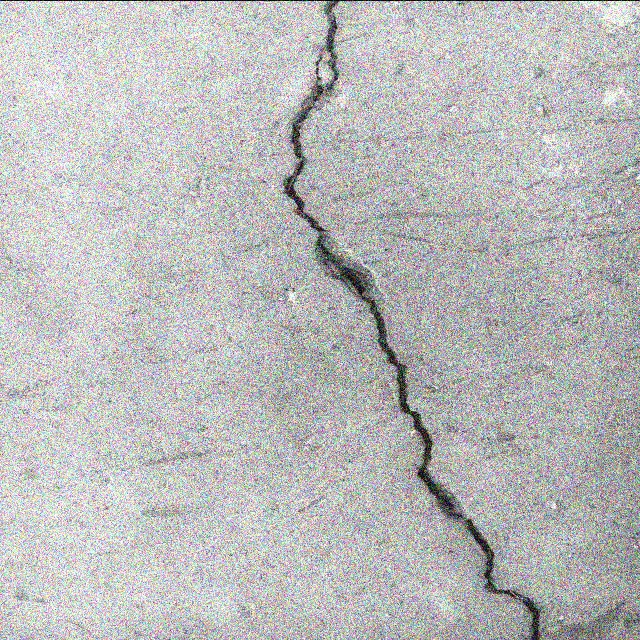SurfaceCrack: (257, 0, 593, 639)
